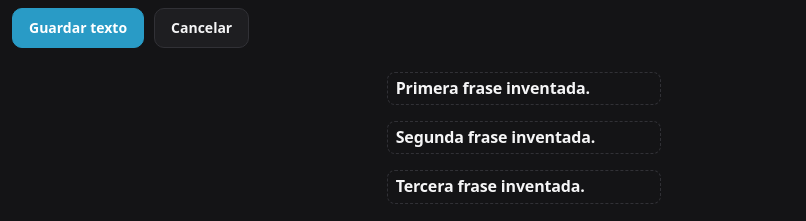
EditorTextos › con un conflicto muestra el mensaje, conserva lo escrito y ofrece Recargar
Replace the text in the text box named "Frase 1" with "Texto que no se pierde.": (524, 89) [387, 72, 661, 105]
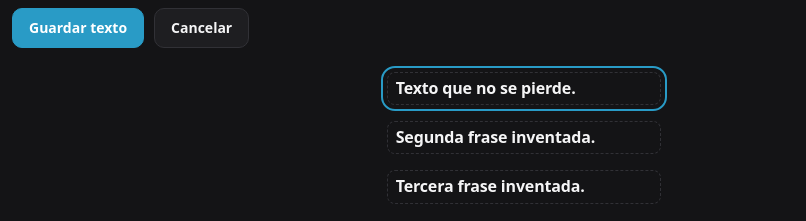
Click the button "Guardar texto": (78, 28) [12, 8, 144, 48]
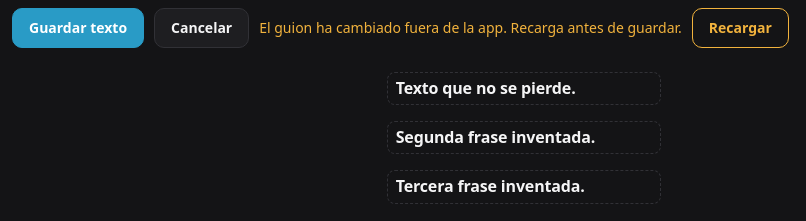
Now the text "El guion ha cambiado fuera de la app. Recarga antes de guardar." is shown, box [259, 18, 682, 37]
Now the button "Recargar" is shown, box [692, 8, 789, 48]
